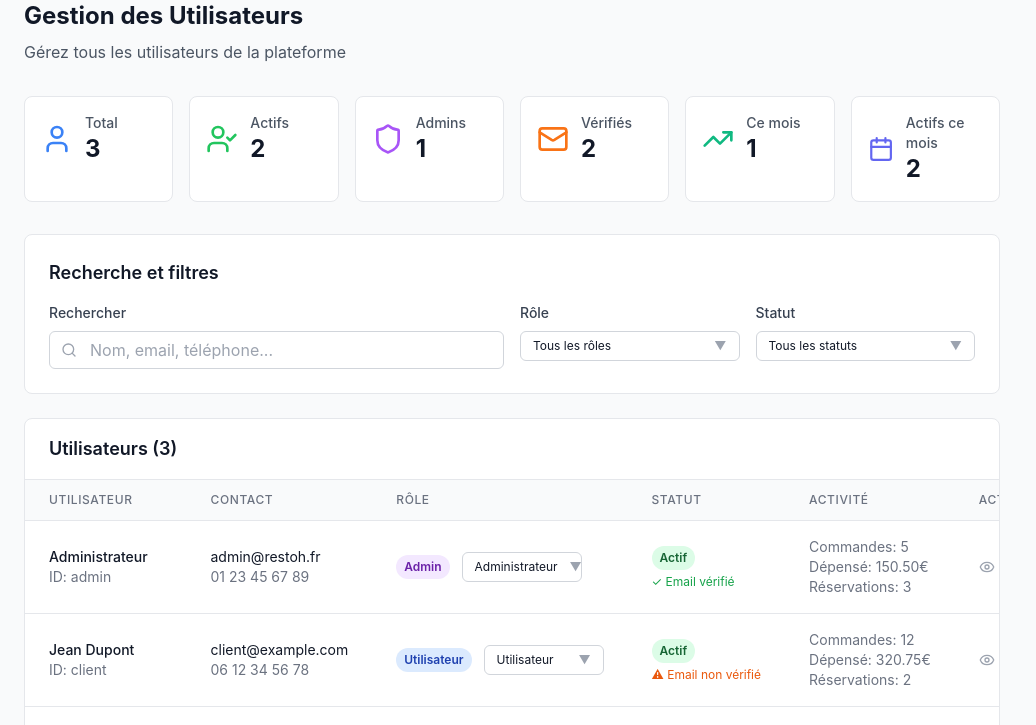
Test: UsersManagement Component › Search Functionality › should filter users by search query (phone)
(page scrolled)
Step 1. Type "06 12 34" into the field with placeholder "Nom, email, téléphone..." → point(276, 350), box x1=49 y1=331 x2=504 y2=369
(page scrolled)
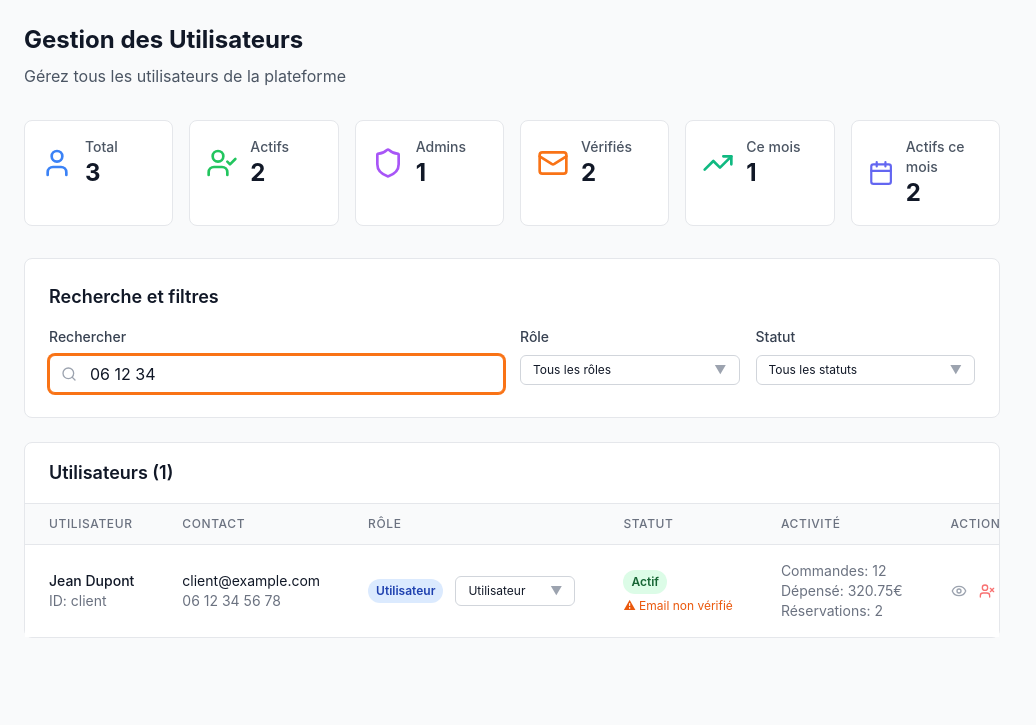
Result: the text "06 12 34 56 78" is shown 2 times
Result: the text "01 23 45 67 89" is gone
